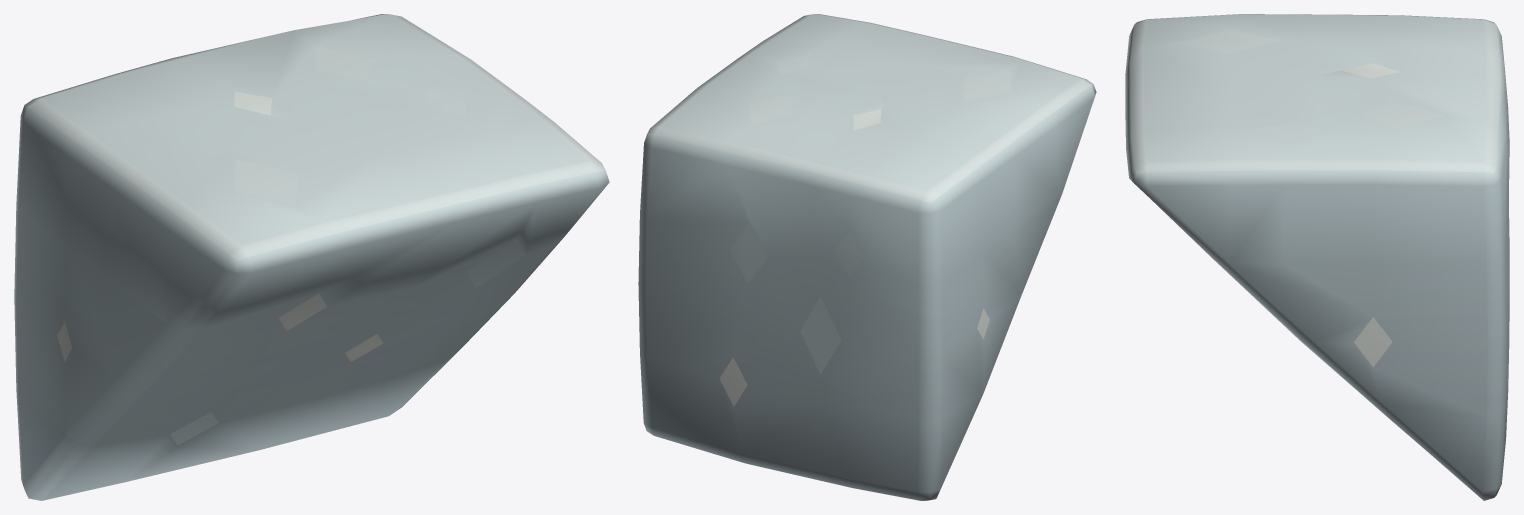
The model's file is Snow_SlopeUnder.fbx.
3 views of the same model, side by side, from view 1: azimuth 30°, elevation 25°; view 2: azimuth 150°, elevation 25°; view 3: azimuth 270°, elevation 25° (orthographic). The views are drawn at different scales.
Visible parts, largest first — view 1: Snow_SlopeUnder_LOD0; view 2: Snow_SlopeUnder_LOD0; view 3: Snow_SlopeUnder_LOD0.
Part boxes in pixels (x1,y1,x2,y2): Snow_SlopeUnder_LOD0: (14, 14, 609, 500); Snow_SlopeUnder_LOD0: (638, 14, 1096, 500); Snow_SlopeUnder_LOD0: (1125, 14, 1509, 500).
Size of what is drawn, in the model's own units: 1.08 by 1.08 by 1.08.
